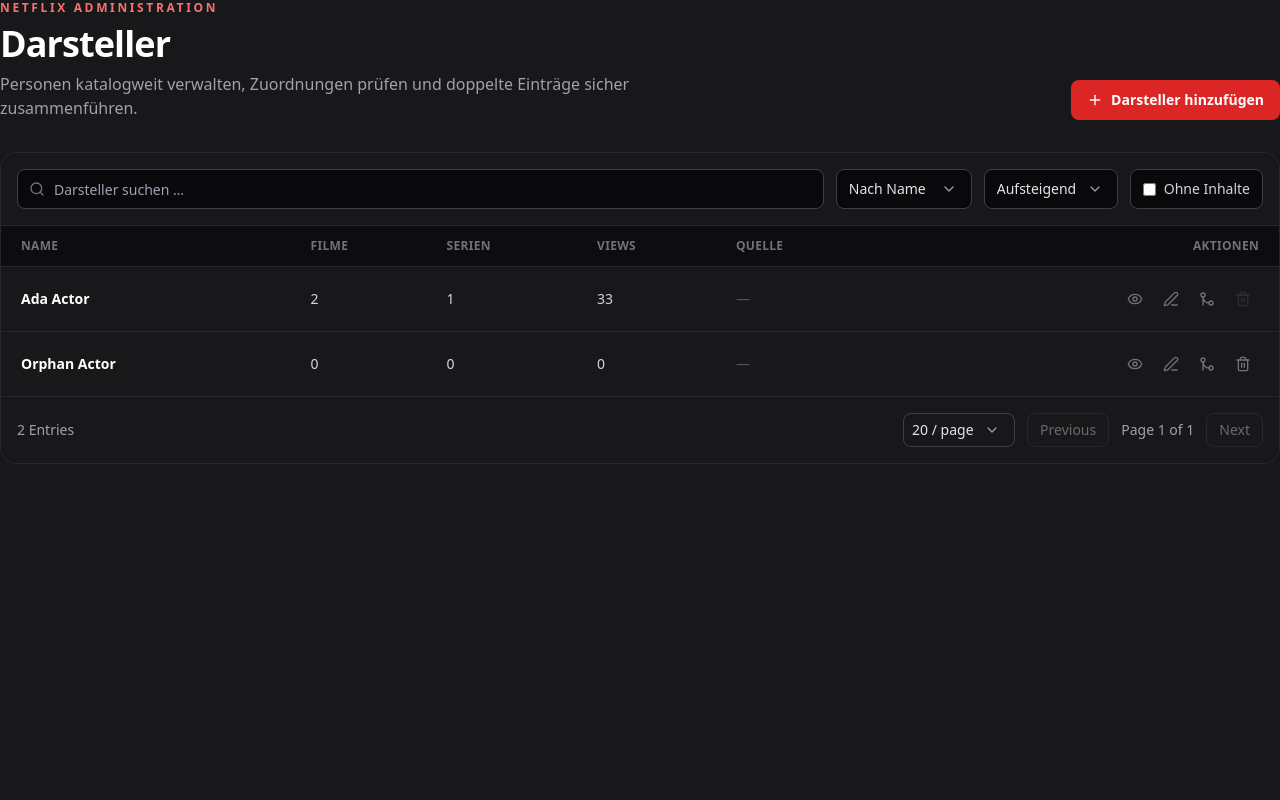
Test case: renders actor metrics and detail drawer
Check: the text "Ada Actor" is shown, box [1,266,299,332]
Click the button named "Ada Actor anzeigen" at [1135, 299], box [1119,283,1151,315]
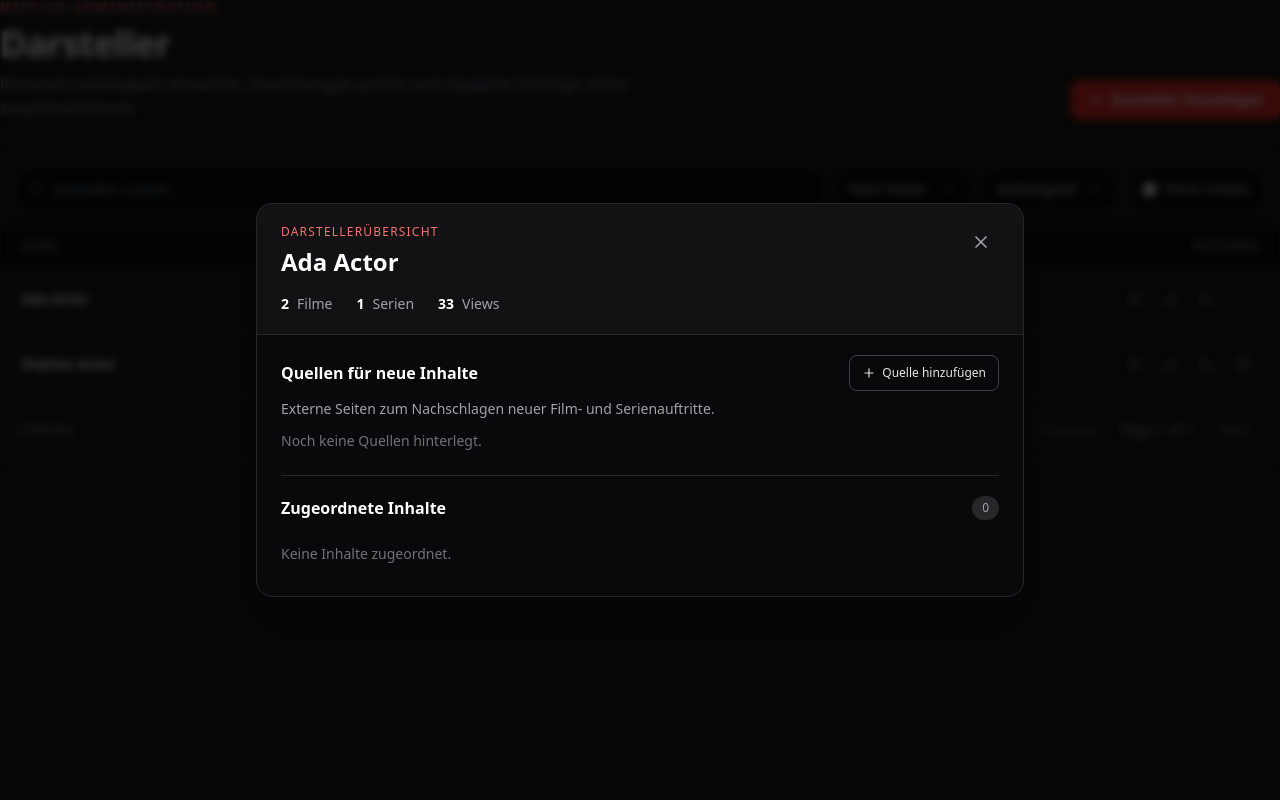
Check: the dialog named "Details zu Ada Actor" is shown
